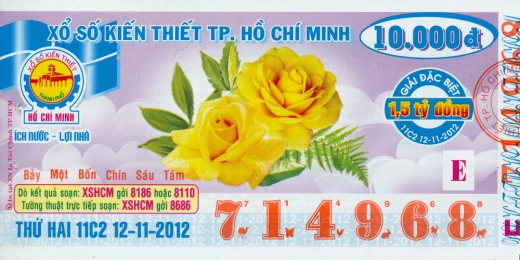serial_zone: (205, 193, 499, 246)
